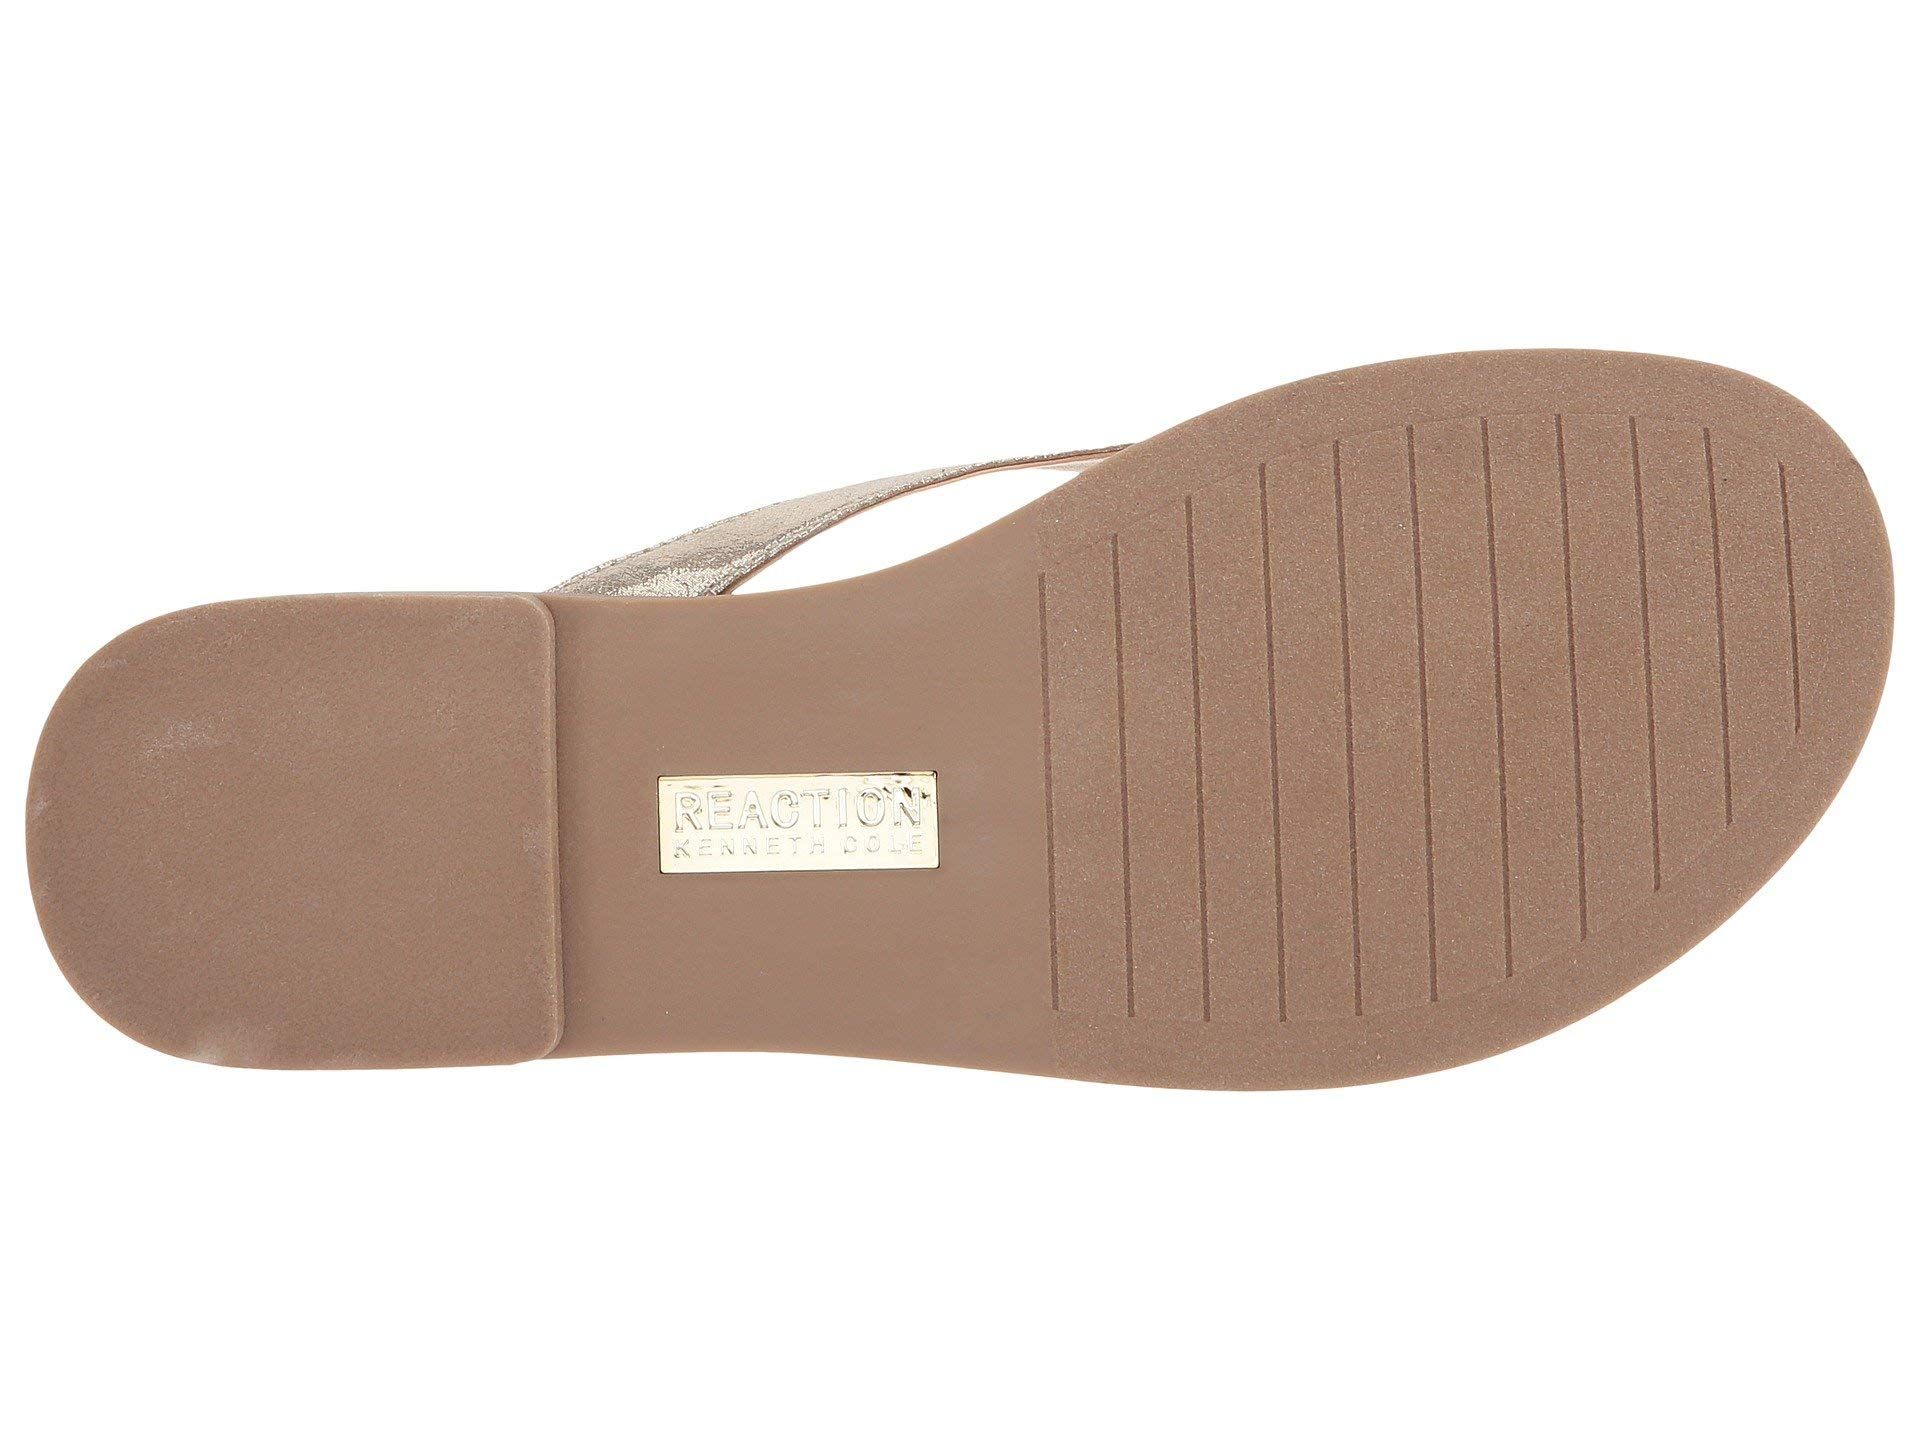line: (1093, 545, 1507, 945), (1512, 410, 1829, 717)
quad: (612, 697, 983, 954)
text: (612, 697, 983, 954)
